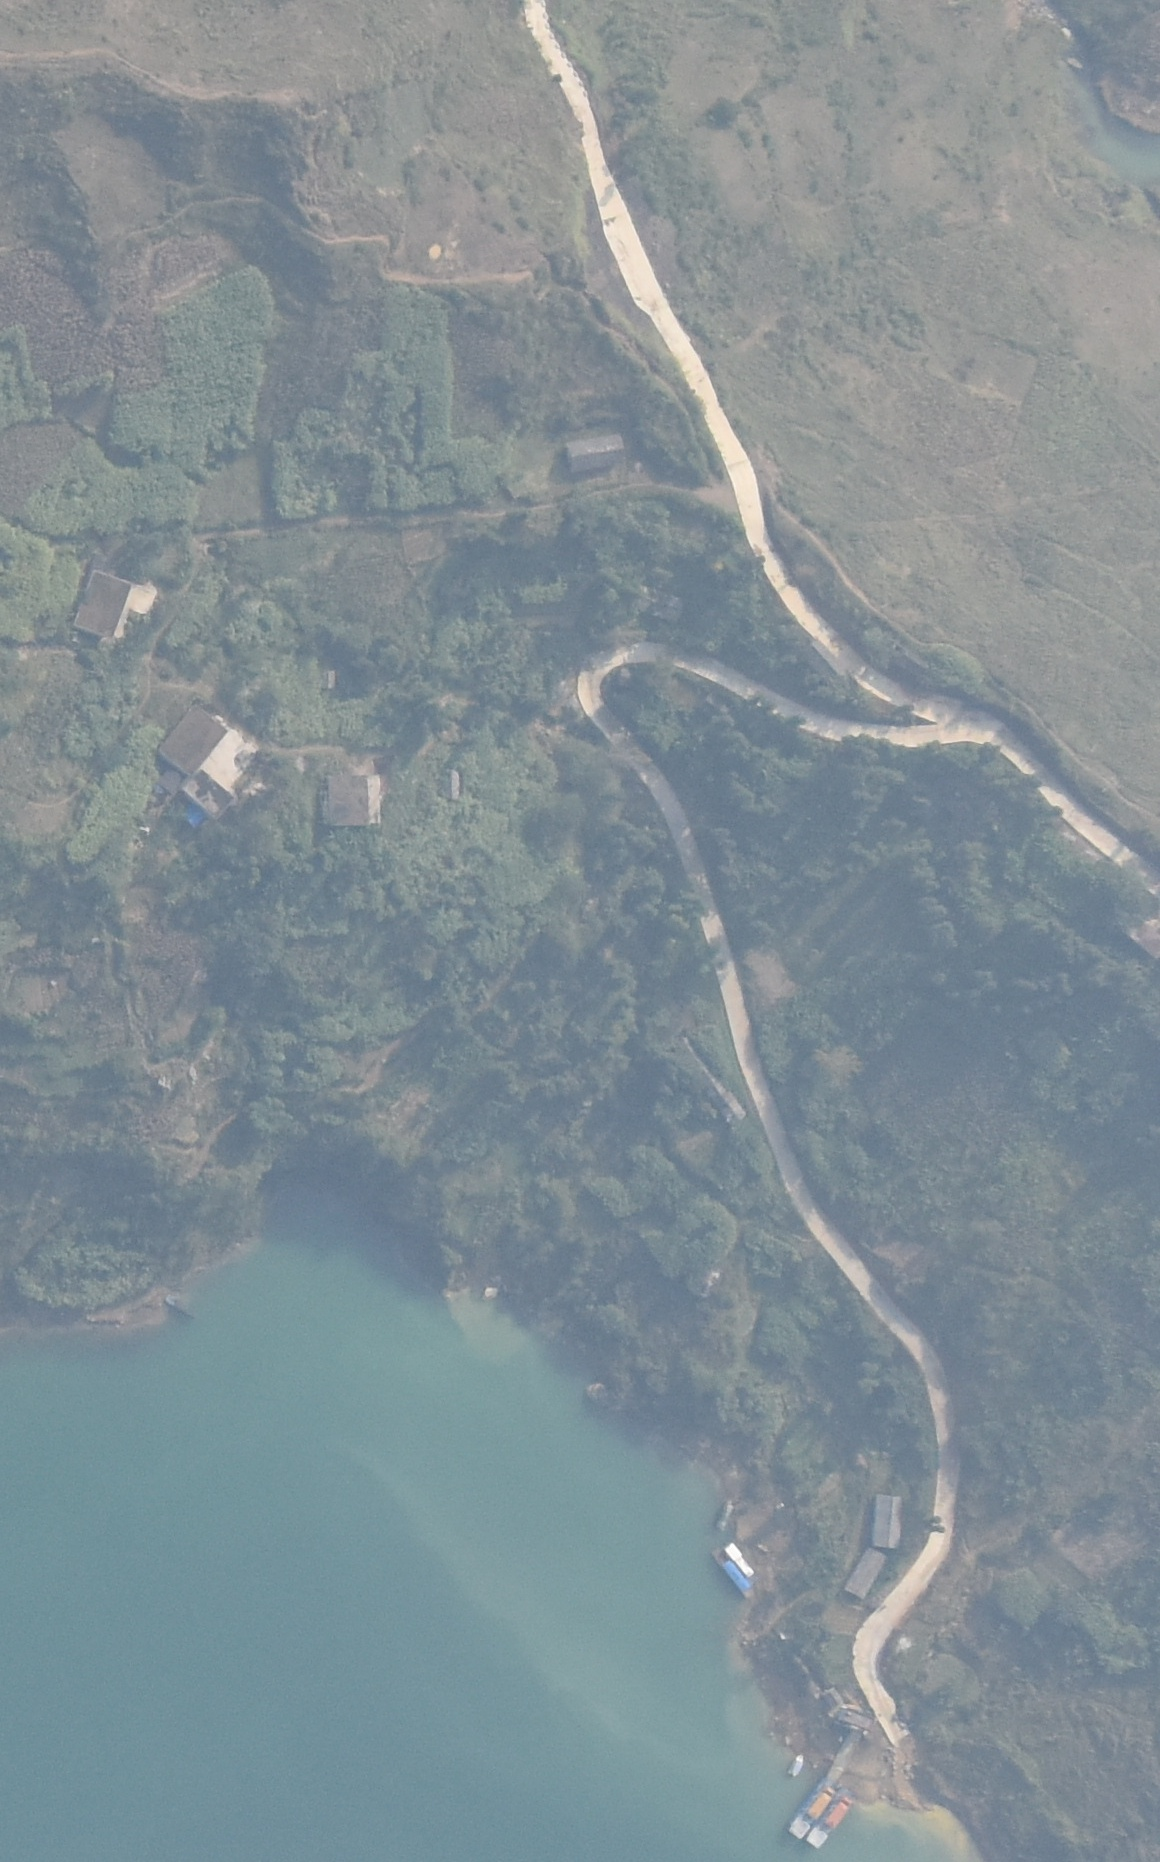building: (137, 706, 264, 828), (63, 565, 165, 659), (668, 1023, 756, 1130), (321, 765, 389, 831), (556, 421, 638, 474), (842, 1540, 888, 1604), (870, 1490, 906, 1550), (640, 583, 685, 630), (438, 769, 469, 804), (320, 657, 348, 695)
prefabricated-house: (724, 1540, 766, 1577), (720, 1561, 756, 1593)
ship: (805, 1788, 858, 1849), (785, 1779, 836, 1842), (782, 1754, 810, 1779)
